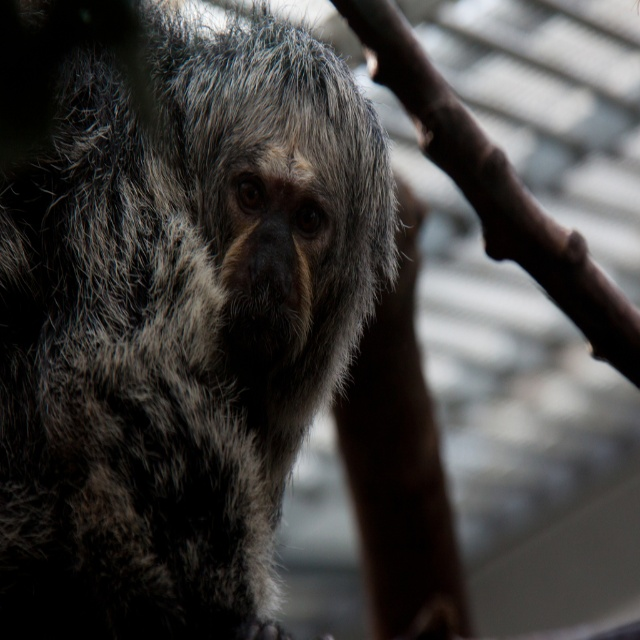Monkey: (1, 1, 412, 639)
